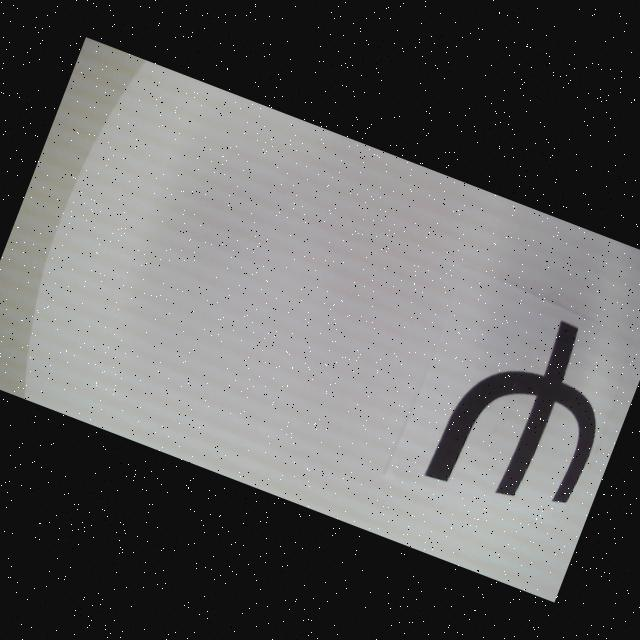PSI: (424, 294, 630, 530)
